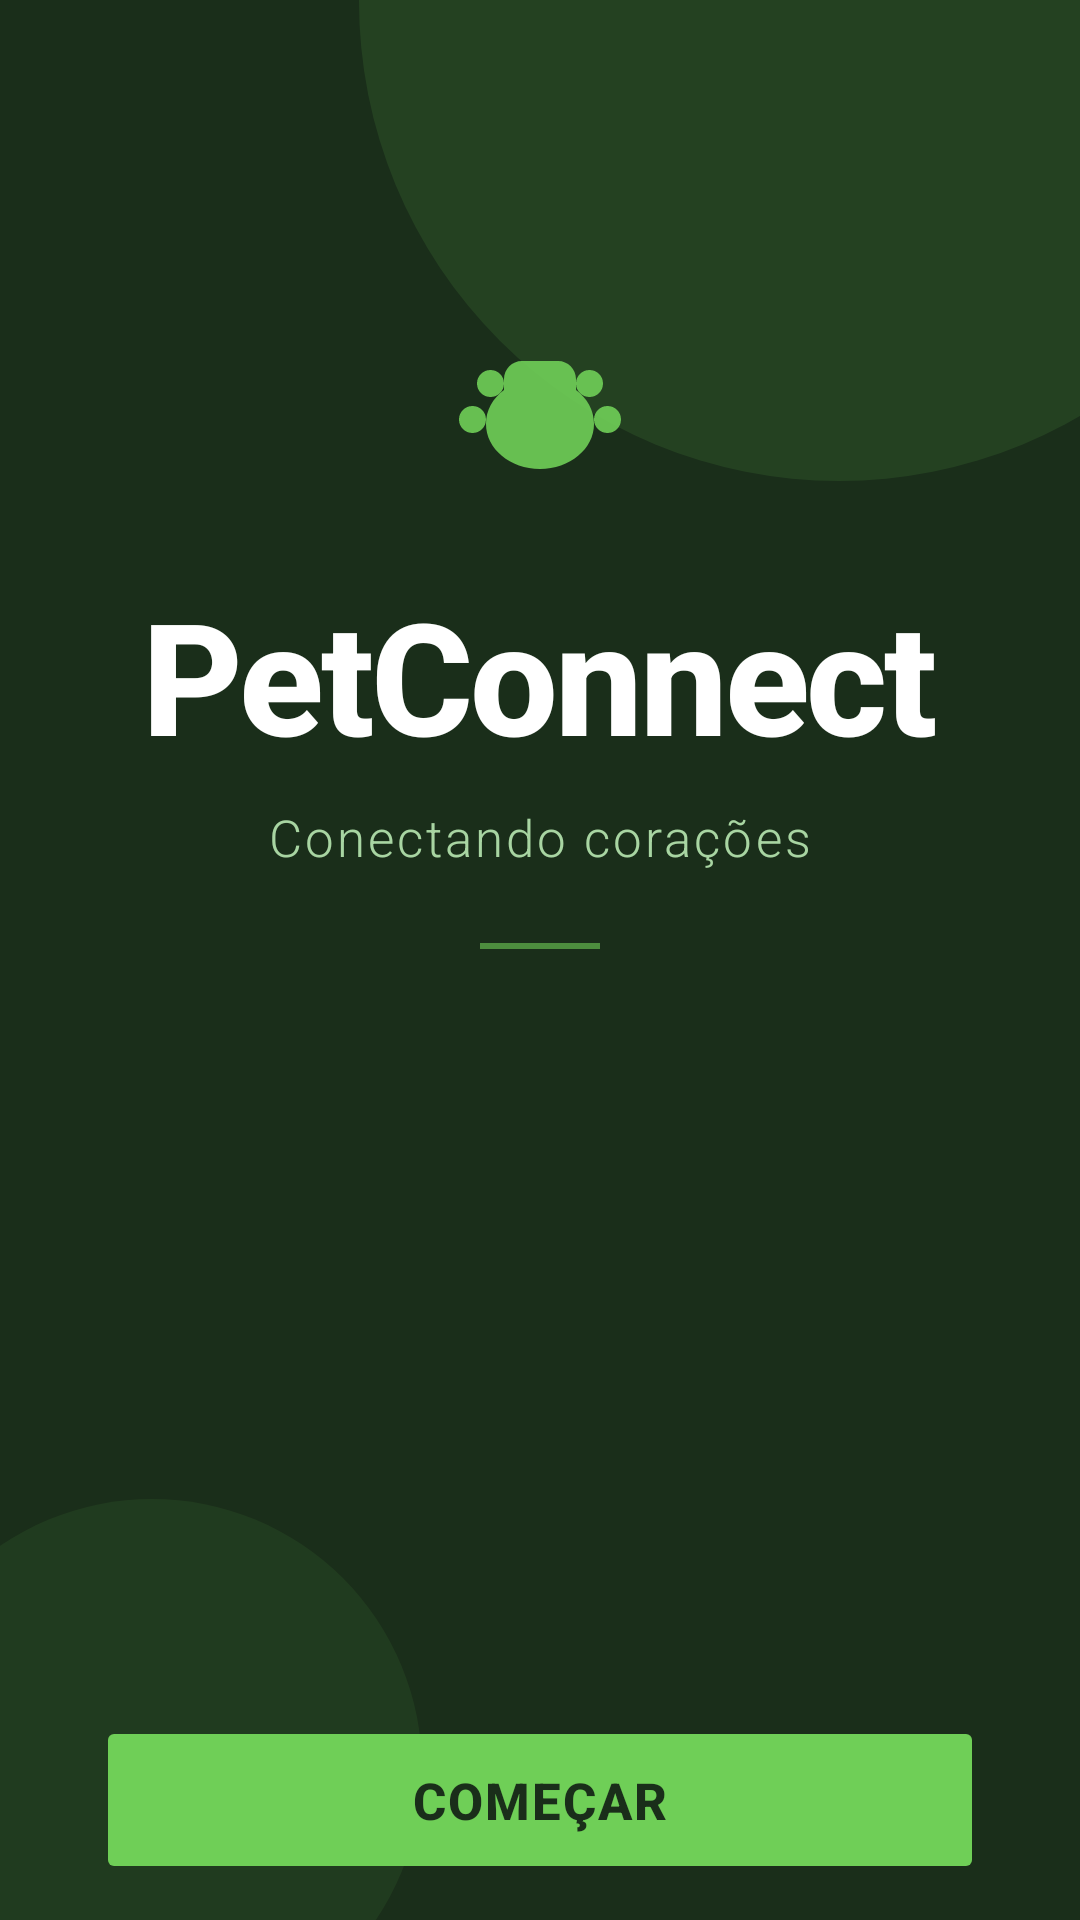

Screen size 1080x1920. Icon name, then its box in pixels as (x1, y1, x2, y2):
paw: (459, 361, 621, 469)
